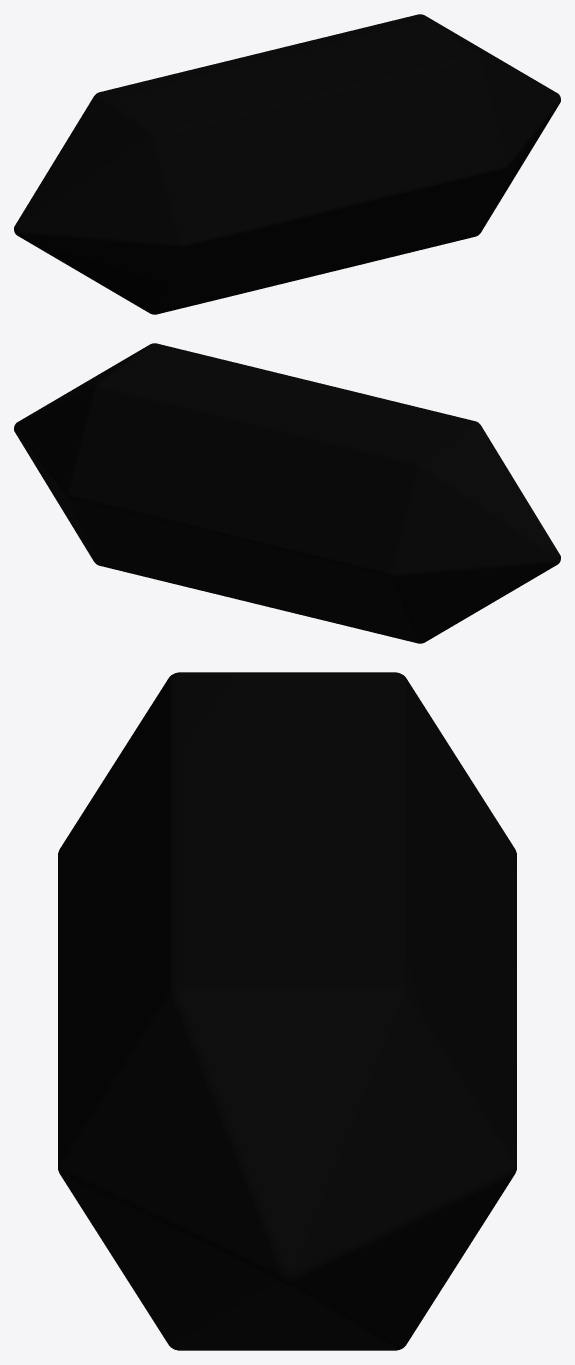
Rendered from red-yagu-gemstone.glb.
The picture shows the model from 3 angles, top to bottom: view 1: azimuth 30°, elevation 25°; view 2: azimuth 150°, elevation 25°; view 3: azimuth 270°, elevation 25°; orthographic projection. The views are drawn at different scales.
Visible parts, largest first — view 1: inside.001; view 2: inside.001; view 3: inside.001.
Part boxes in pixels (<box>): inside.001: <box>14,14,560,314</box>; inside.001: <box>14,343,560,643</box>; inside.001: <box>58,672,516,1350</box>.
Size of the model in its own units: 0.1361 by 0.0434 by 0.0497.
Materials: 2 (2 with a texture image).
